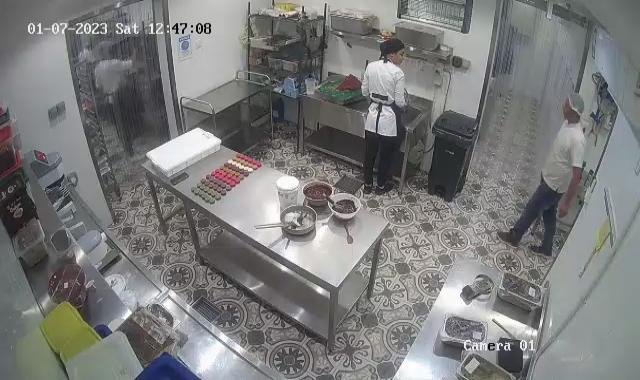hairnet: (566, 91, 585, 119)
no_hairnet: (379, 36, 406, 58)
